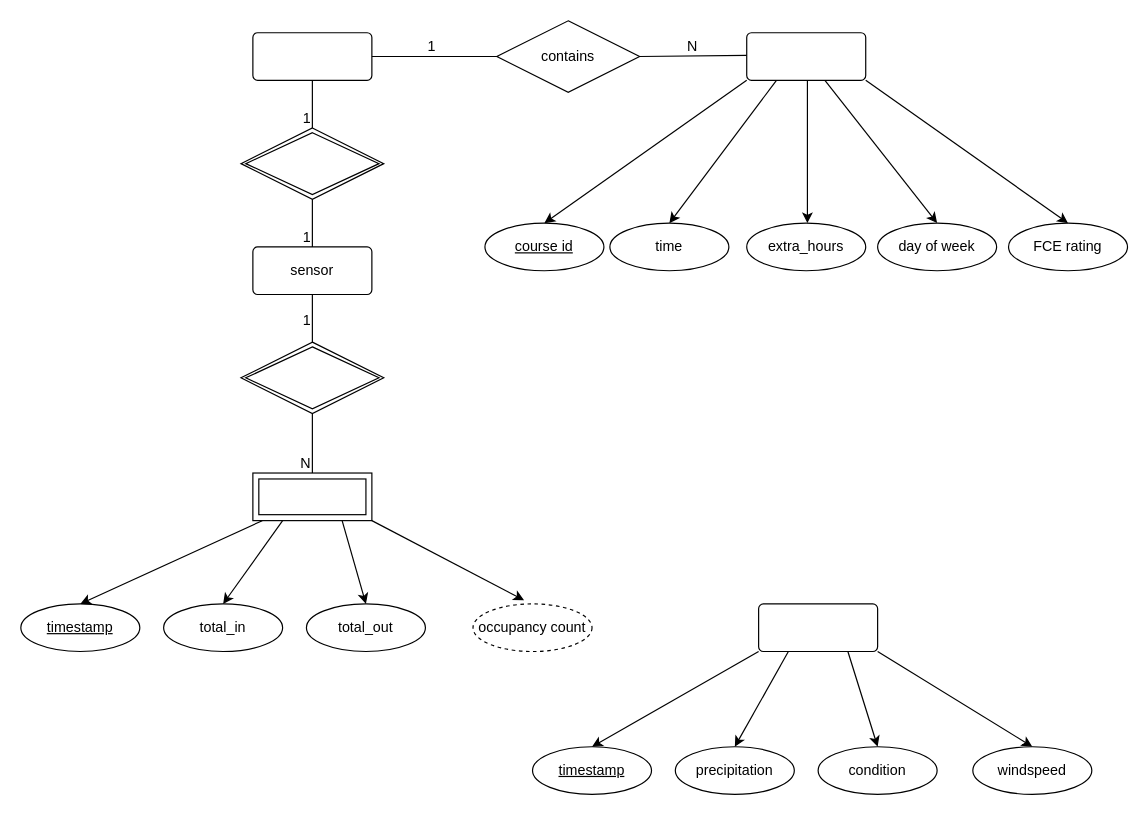
Image size: 1148x815. Some labels were removed from this diagram. The shapes that lost their labels are listed below. From the top down, each one's centre as x and y in pixels, then its label:
At pixel 312 56: "Classroom".
At pixel 806 56: "Course".
At pixel 312 163: "monitored by".
At pixel 312 377: "produces".
At pixel 312 496: "Room State".
At pixel 817 627: "weather".
